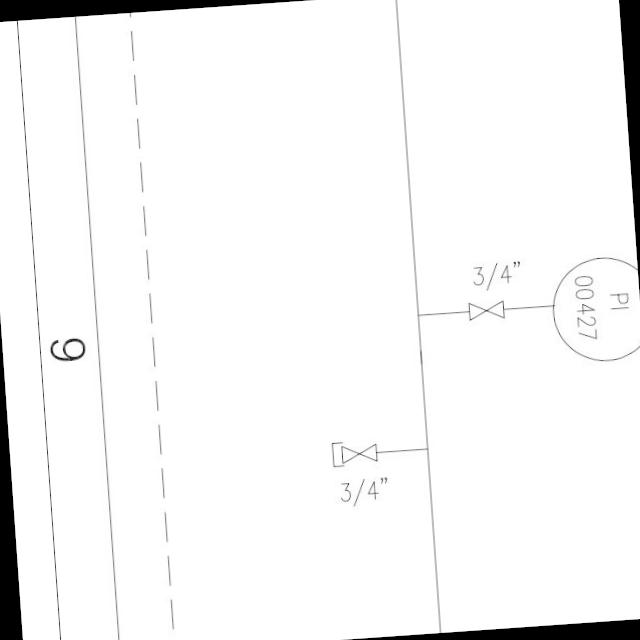EC: (326, 434, 402, 471)
GV: (462, 297, 508, 324), (337, 442, 381, 464)
